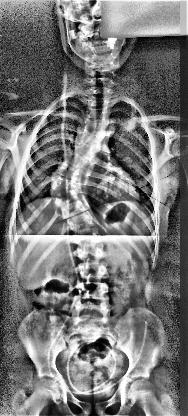Vertebrae: (76, 279, 110, 299), (76, 299, 110, 319), (64, 212, 96, 228), (50, 176, 80, 192), (71, 230, 101, 245), (63, 154, 91, 170), (54, 191, 86, 205), (58, 203, 90, 217), (74, 248, 104, 262), (59, 164, 85, 180), (74, 144, 96, 162), (79, 136, 107, 150), (80, 262, 104, 278), (84, 124, 110, 138), (87, 108, 111, 122)
